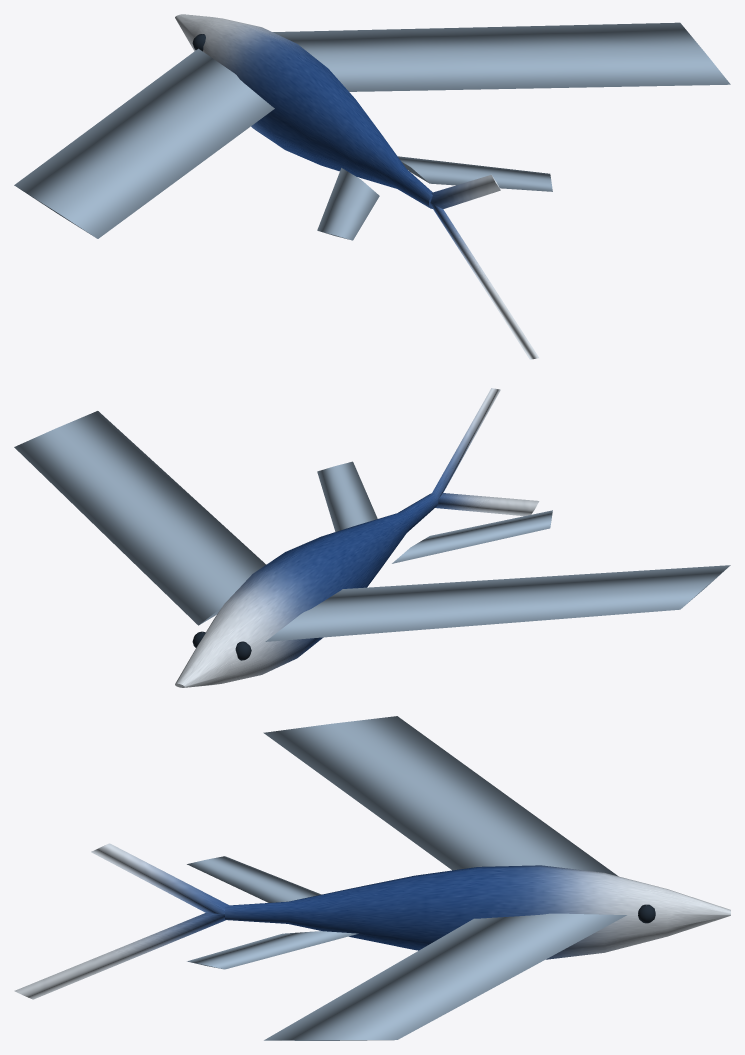
The model's file is flyingfish.glb.
3 renders of one model, top to bottom at view 1: azimuth 30°, elevation 25°; view 2: azimuth 150°, elevation 25°; view 3: azimuth 270°, elevation 25°, orthographic.
Visible parts, largest first — view 1: flyingfish; view 2: flyingfish; view 3: flyingfish.
Boxes of the visible parts, x1,y1,x2,y2 form: flyingfish: [14, 14, 730, 359]; flyingfish: [14, 388, 730, 687]; flyingfish: [14, 716, 730, 1040].
Bounding box in the file's own units: 0.4 × 0.09 × 0.374.
Materials: 3 (1 with a texture image).
